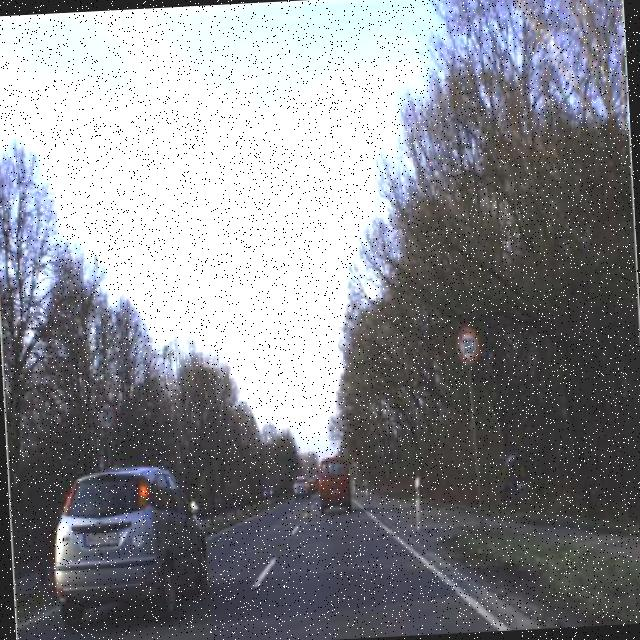Ograniczenie predkosci do 70: (452, 323, 482, 372), (92, 397, 120, 438)
